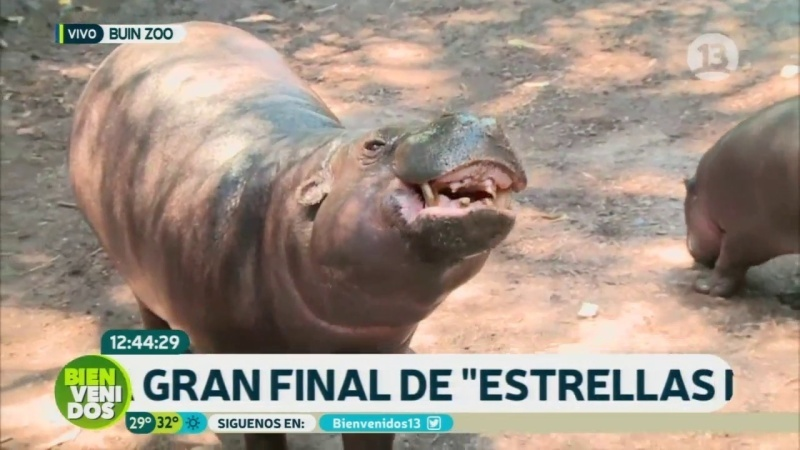hipopotamo: (58, 14, 549, 351), (654, 74, 800, 302)
